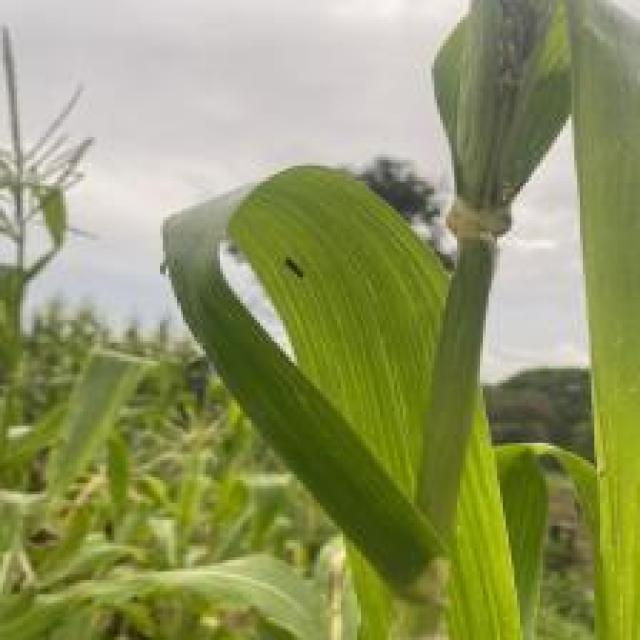Plaga: (270, 248, 327, 300)
